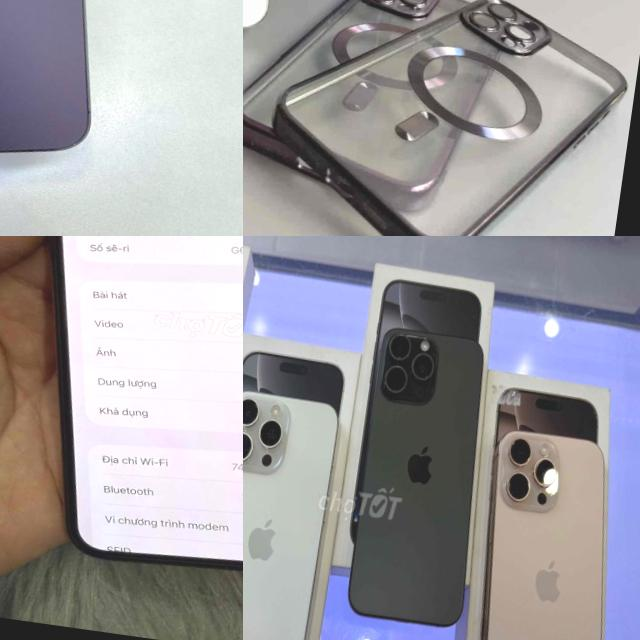gen_11: (0, 236, 243, 617)
gen_14: (0, 0, 149, 186)
gen_16: (243, 382, 341, 640)
